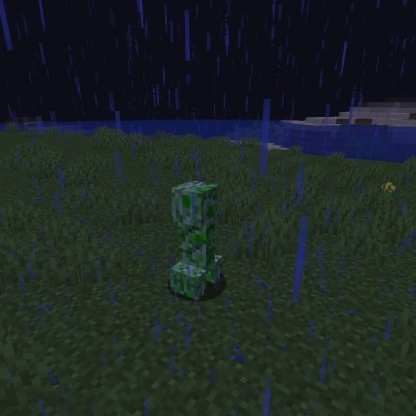creeper: (165, 177, 228, 303)
